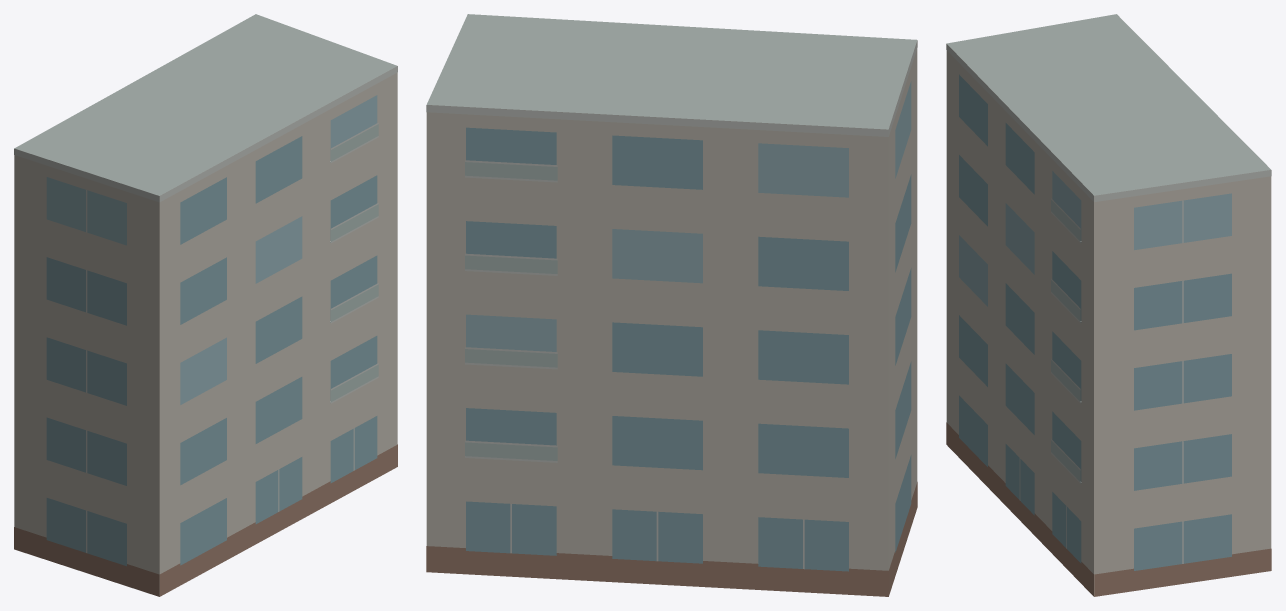
The model's file is residential-2a4c5856-9eba-4ed3-adc3-f1de6be82176.glb.
3 renders of one model, left to right at view 1: azimuth 30°, elevation 25°; view 2: azimuth 150°, elevation 25°; view 3: azimuth 270°, elevation 25°, orthographic. The views are drawn at different scales.
Visible parts, largest first — view 1: residential-2a4c5856-9eba-4ed3-adc3-f1de6be82176.tmp; view 2: residential-2a4c5856-9eba-4ed3-adc3-f1de6be82176.tmp; view 3: residential-2a4c5856-9eba-4ed3-adc3-f1de6be82176.tmp.
Boxes of the visible parts, x1,y1,x2,y2 form: residential-2a4c5856-9eba-4ed3-adc3-f1de6be82176.tmp: [14, 14, 397, 596]; residential-2a4c5856-9eba-4ed3-adc3-f1de6be82176.tmp: [426, 14, 917, 596]; residential-2a4c5856-9eba-4ed3-adc3-f1de6be82176.tmp: [946, 14, 1271, 596].
Bounding box in the file's own units: 14.83 × 15.25 × 11.21.
